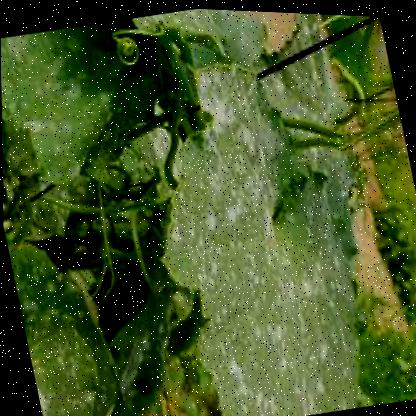PowderyMildew: (156, 86, 343, 415)
